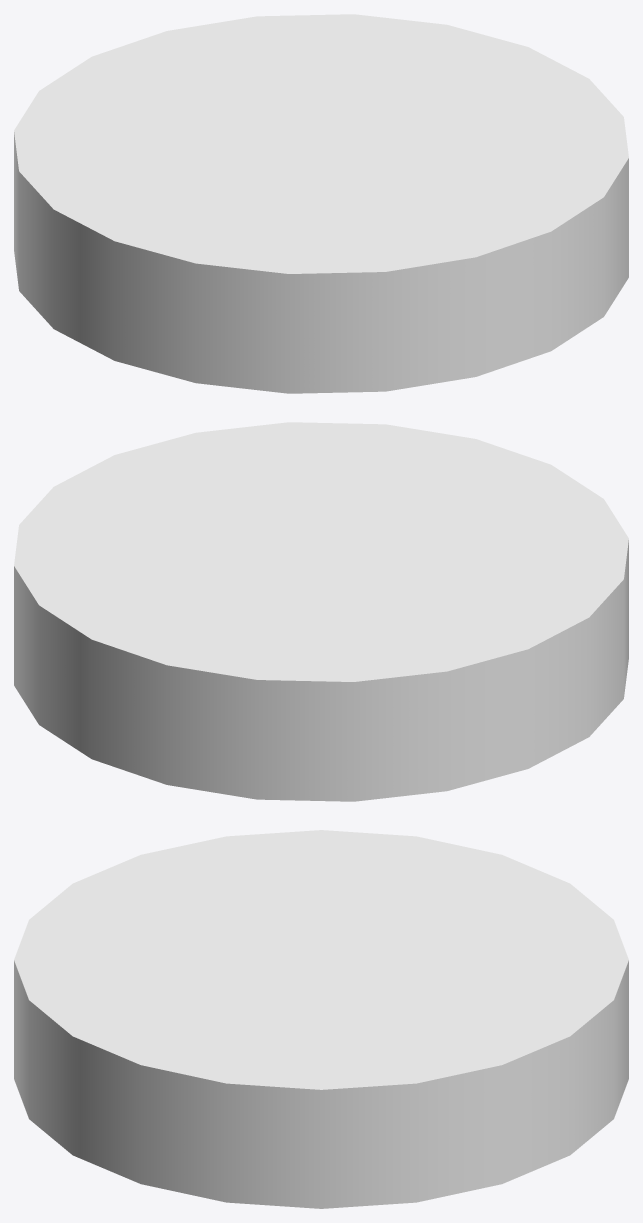
The picture shows the model from 3 angles, top to bottom: view 1: azimuth 30°, elevation 25°; view 2: azimuth 150°, elevation 25°; view 3: azimuth 270°, elevation 25°; orthographic projection.
Visible parts, largest first — view 1: pCylinder1; view 2: pCylinder1; view 3: pCylinder1.
Boxes of the visible parts, box(x1,y1,x2,y2) form: pCylinder1: box(14, 14, 628, 393); pCylinder1: box(14, 422, 628, 801); pCylinder1: box(14, 830, 628, 1208).
Size of the model in its own units: 2 by 0.4271 by 2.
Materials: 1 (1 with a texture image).
